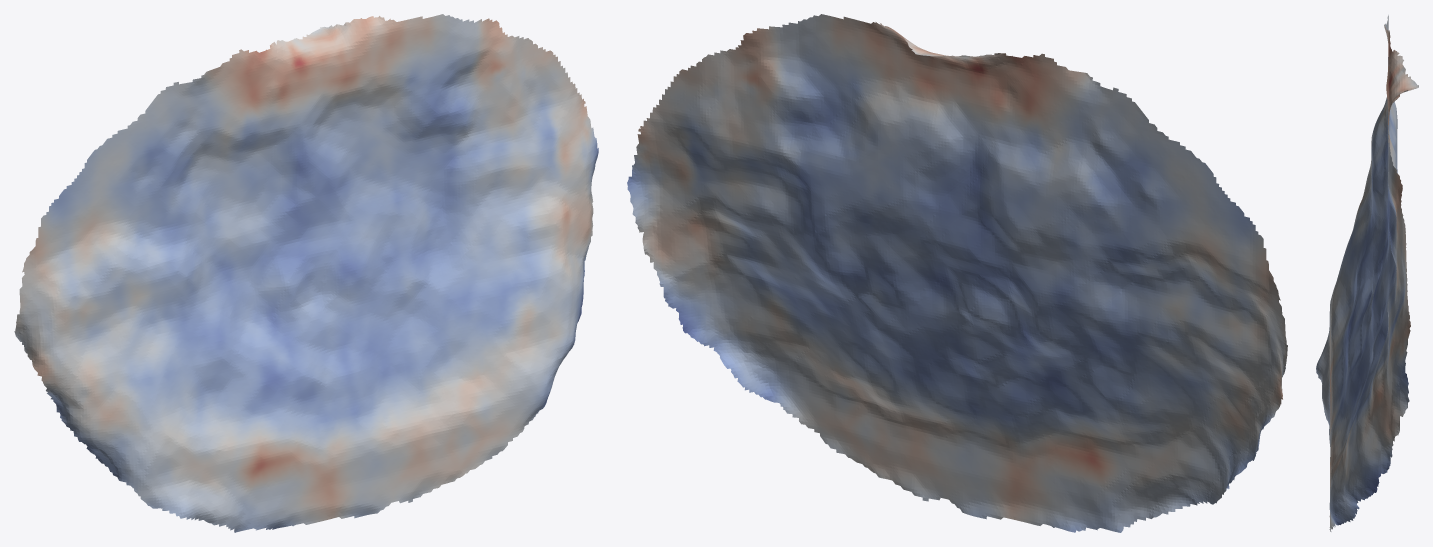
The picture shows the model from 3 angles, left to right: view 1: azimuth 30°, elevation 25°; view 2: azimuth 150°, elevation 25°; view 3: azimuth 270°, elevation 25°; orthographic projection. The views are drawn at different scales.
Visible parts, largest first — view 1: world; view 2: world; view 3: world.
Part boxes in pixels (x1,y1,x2,y2): world: (14, 14, 598, 532); world: (627, 14, 1287, 532); world: (1316, 15, 1418, 531).
Size of the model in its own units: 47.45 by 35.7 by 7.77.
